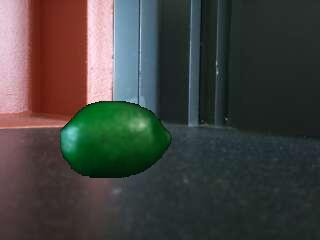Lime: (56, 101, 175, 181)
